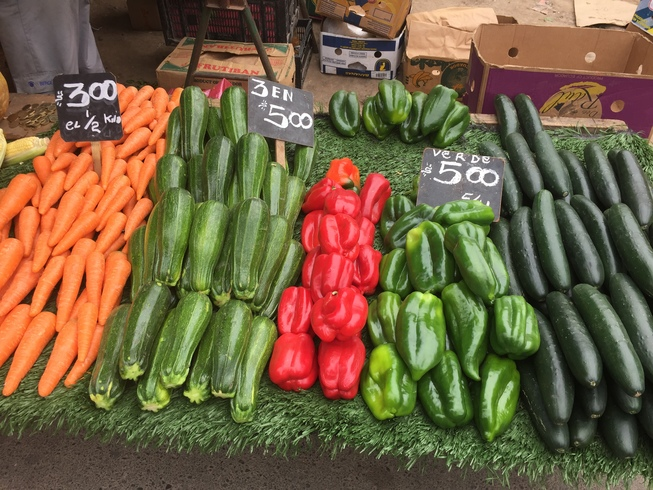precio: (412, 145, 512, 225), (54, 72, 128, 151), (244, 73, 318, 151)
